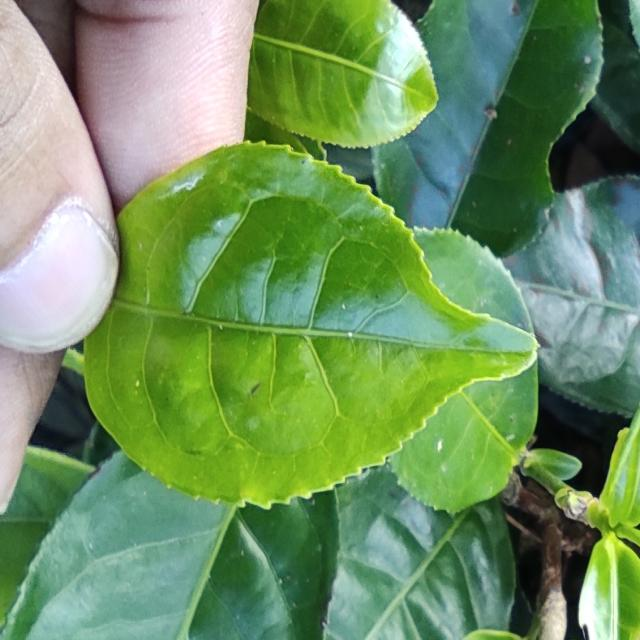Category C(4-7 days): (40, 146, 548, 512)
